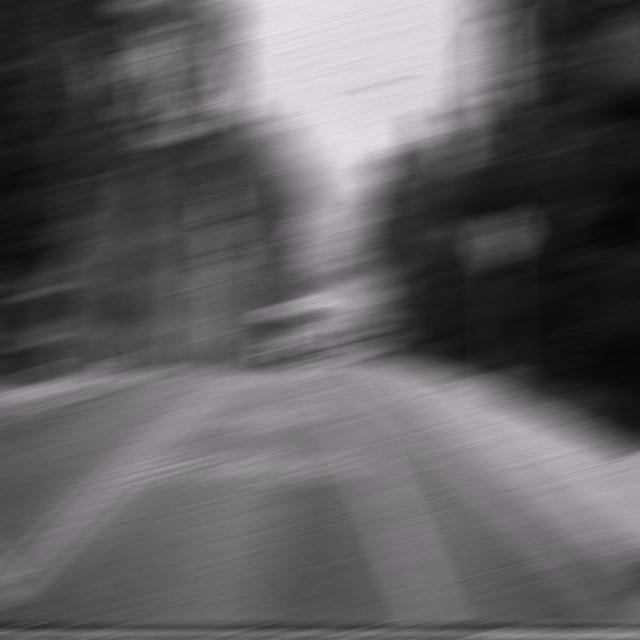pedestrianCrossing: (474, 205, 528, 269)
